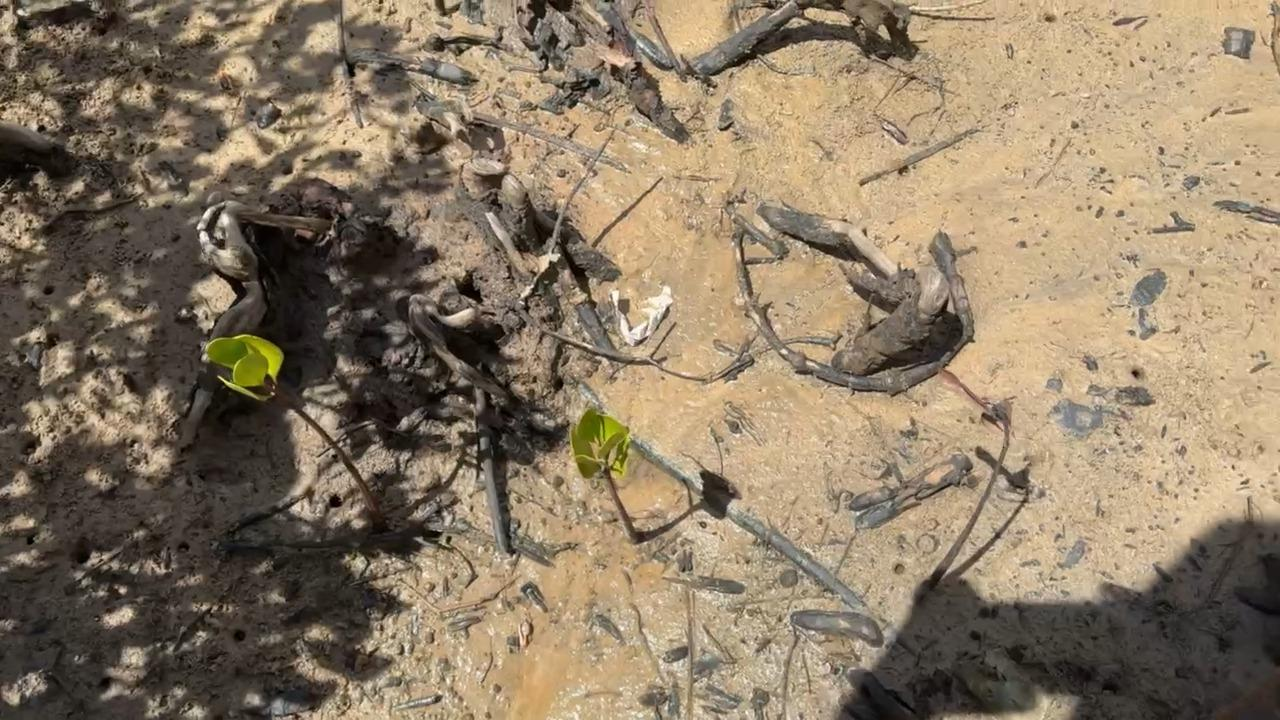Tree: (206, 334, 386, 531), (570, 401, 637, 543)
